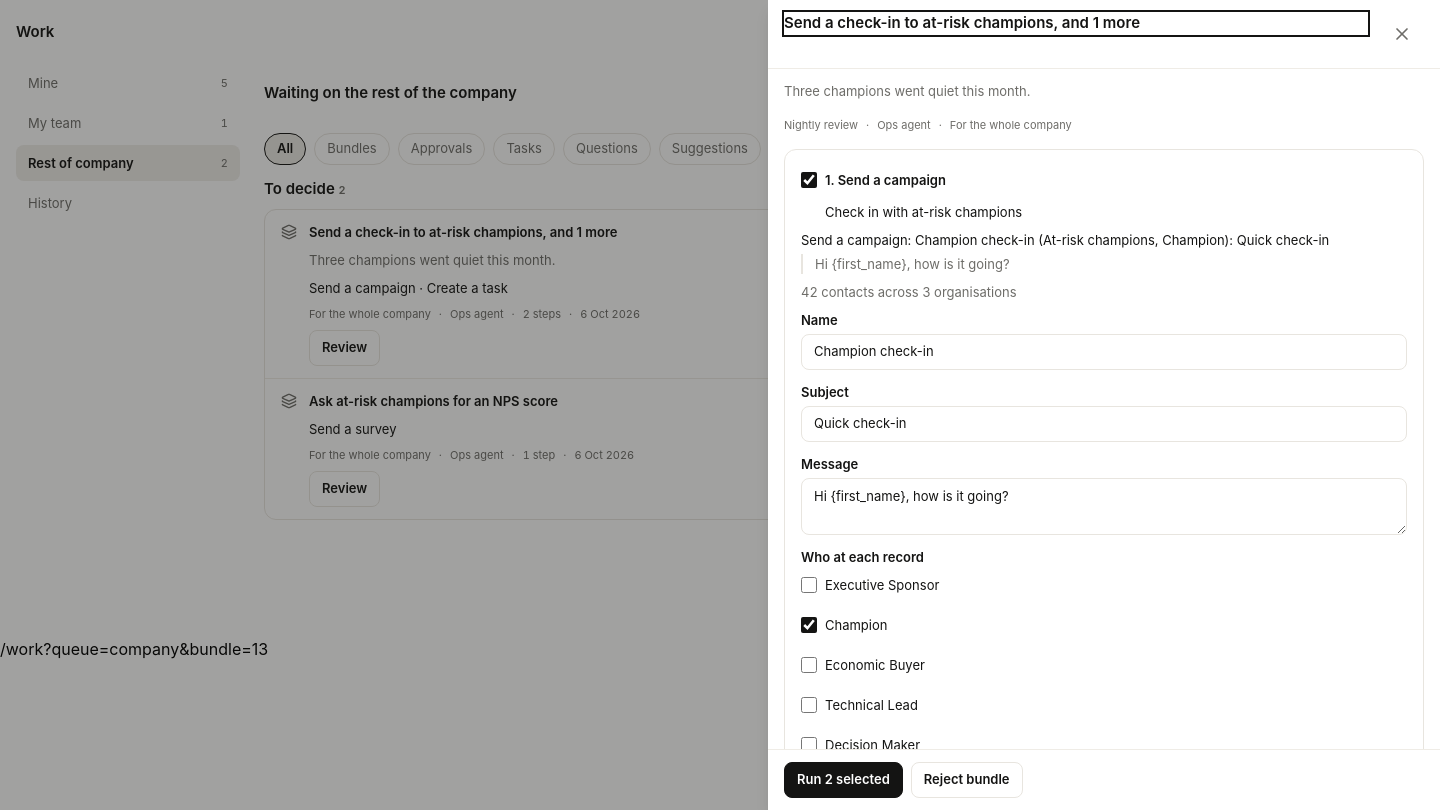
Test case: Bundle panel: retry, reject, discard and refusals (frontend Decisions 6, 12, 14, 15) › keeps the edits to another failed step when one step is retried
This screenshot has width=1440, height=810.
Click the button "Run 2 selected" at {"x": 843, "y": 780}, box [784,762,903,798]
(page scrolled)
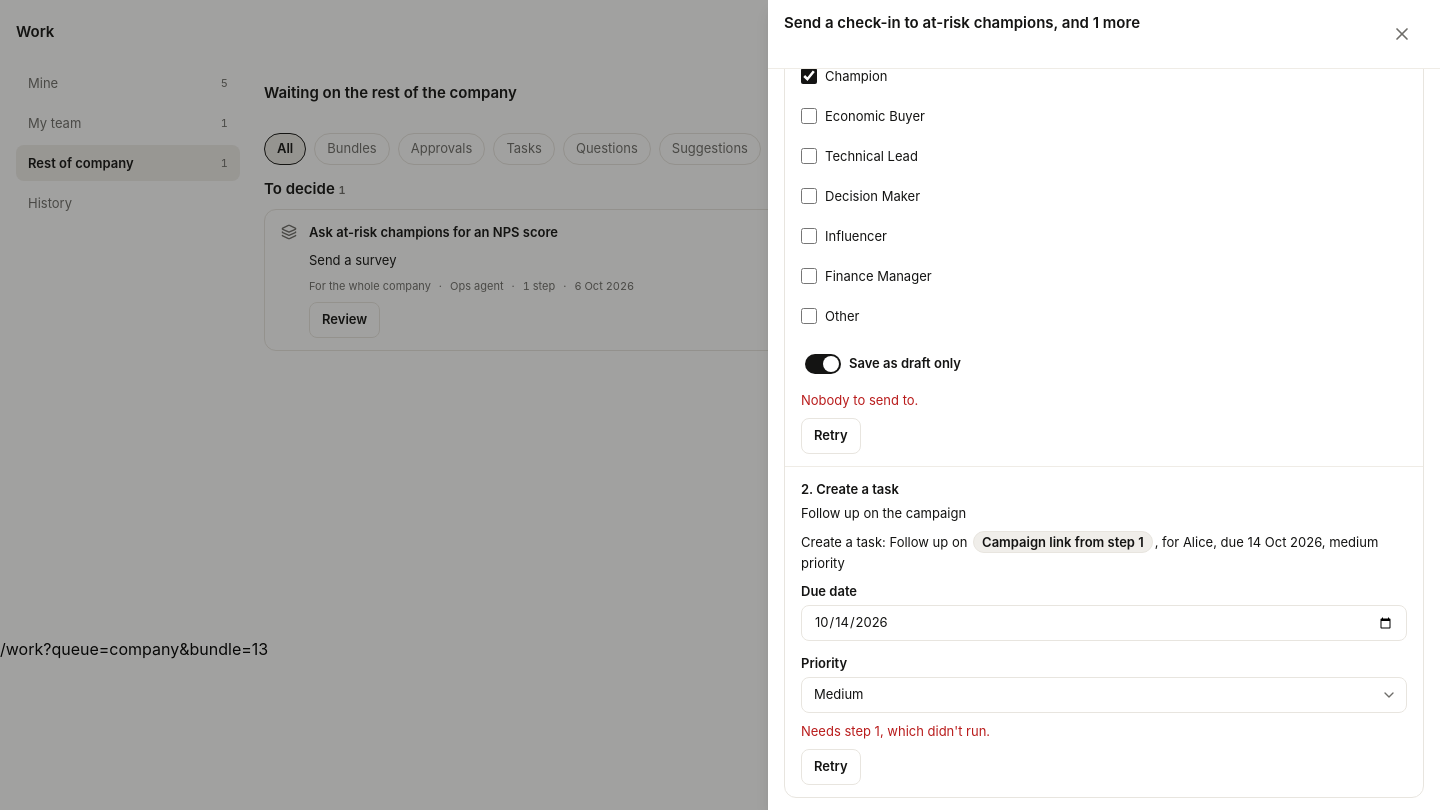
Type "2026-10-20" into the date field labelled "Due date" at {"x": 1104, "y": 623}, box [801,605,1407,641]
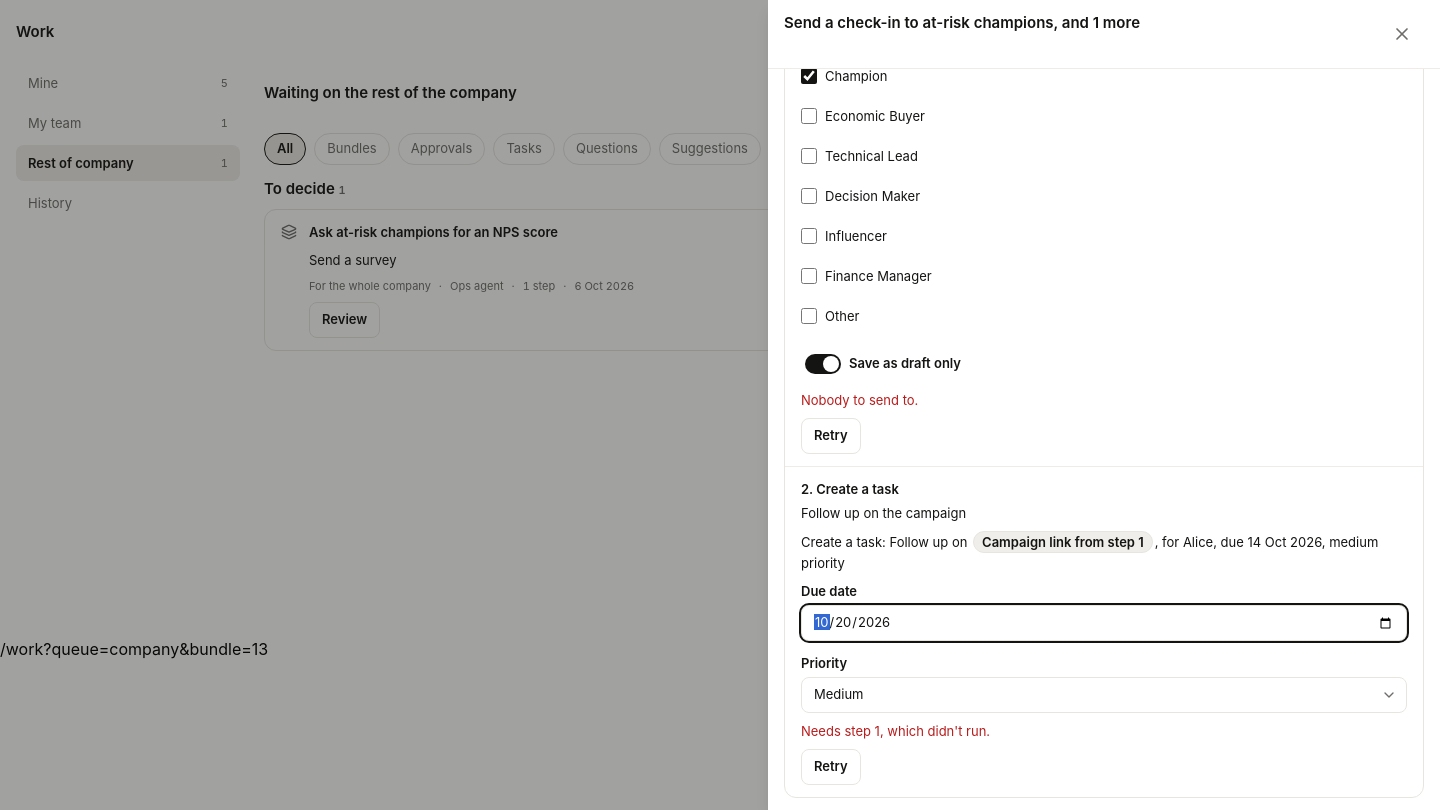
Click the button "Retry" below "Nobody to send to." at {"x": 831, "y": 436}, box [801,418,861,454]
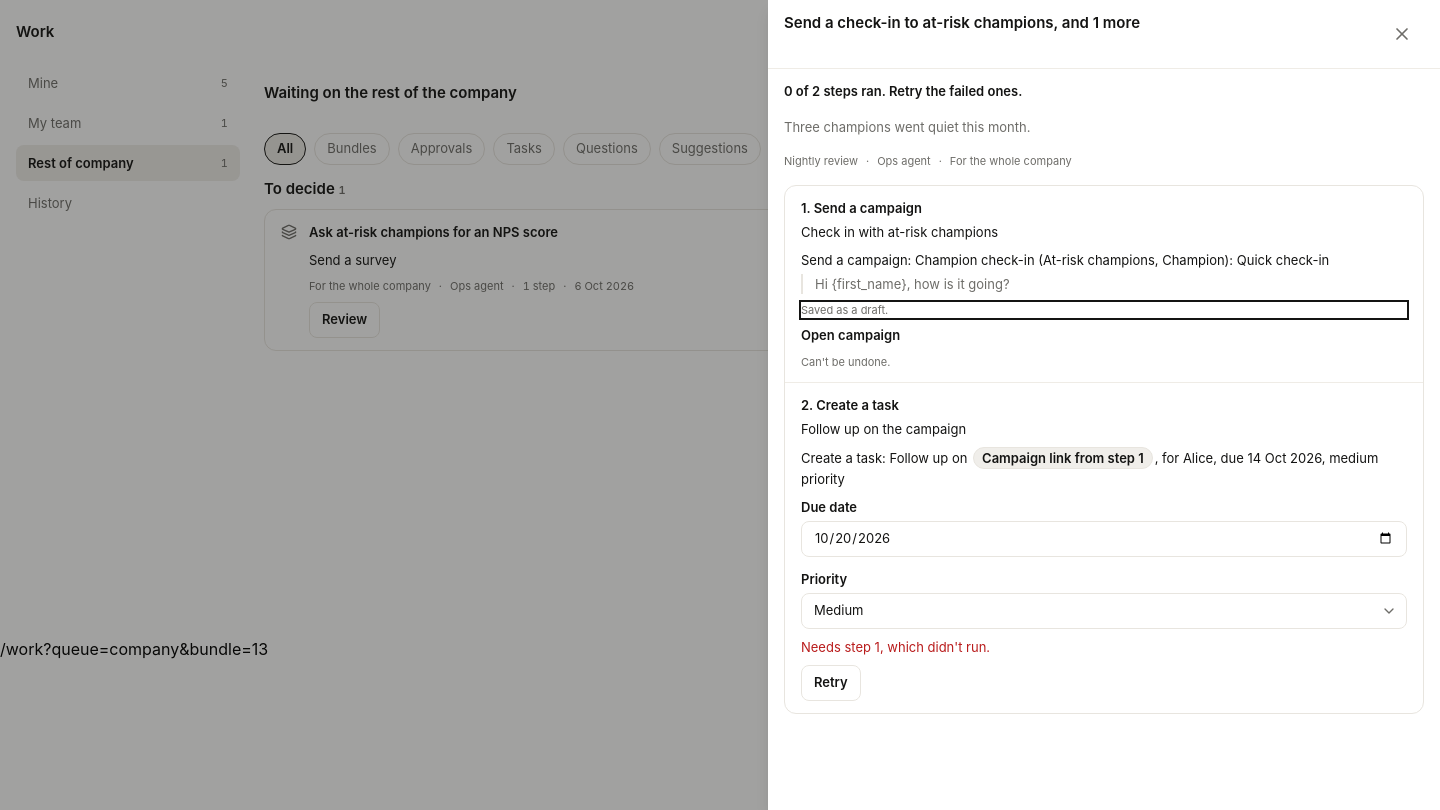
Now the text "Saved as a draft." is shown, box [801,303,888,317]
